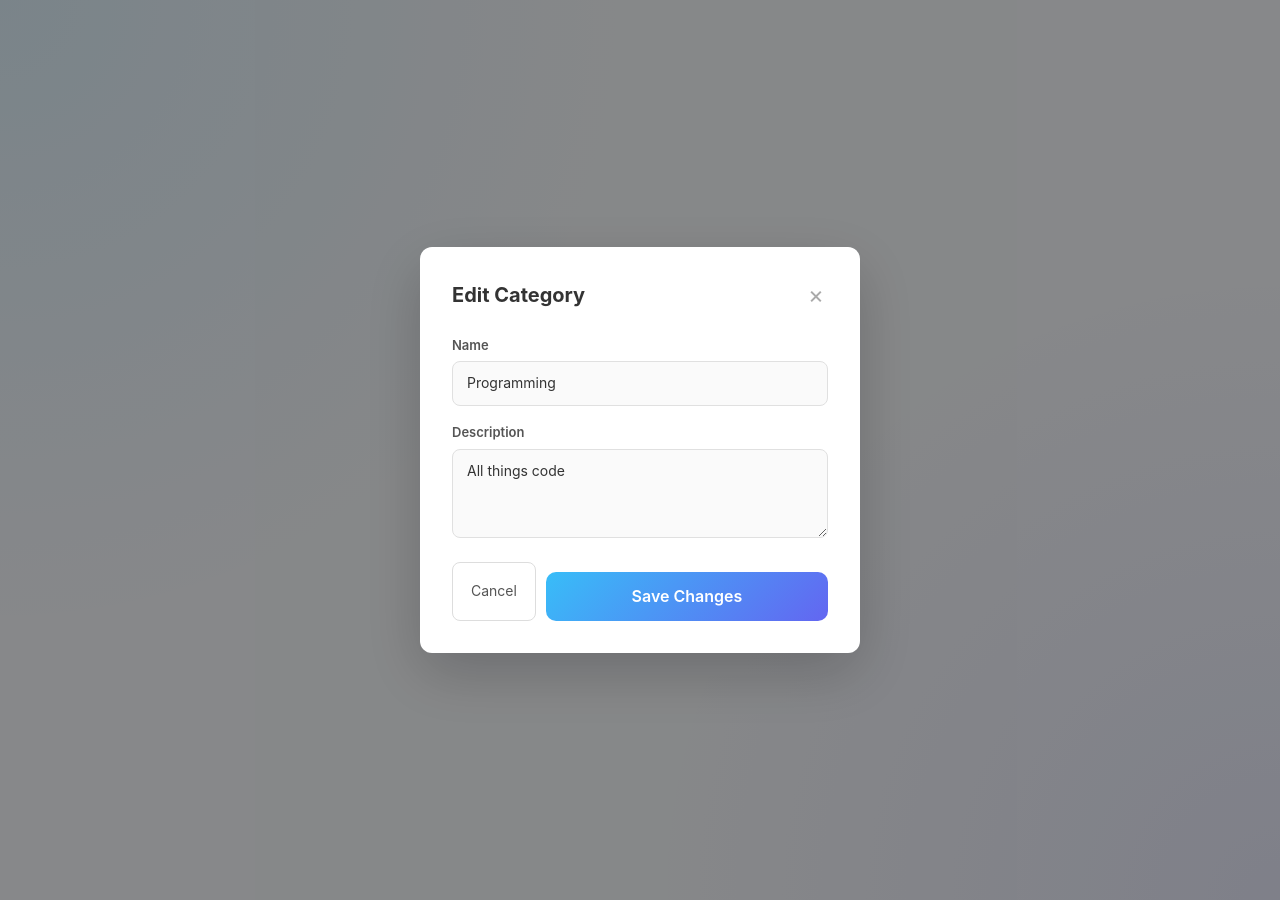
Test: EditCategoryModal › server error handling › shows the error message returned by the server
This screenshot has width=1280, height=900.
Click the button "Save Changes" at (687, 597), box x1=546 y1=572 x2=828 y2=621
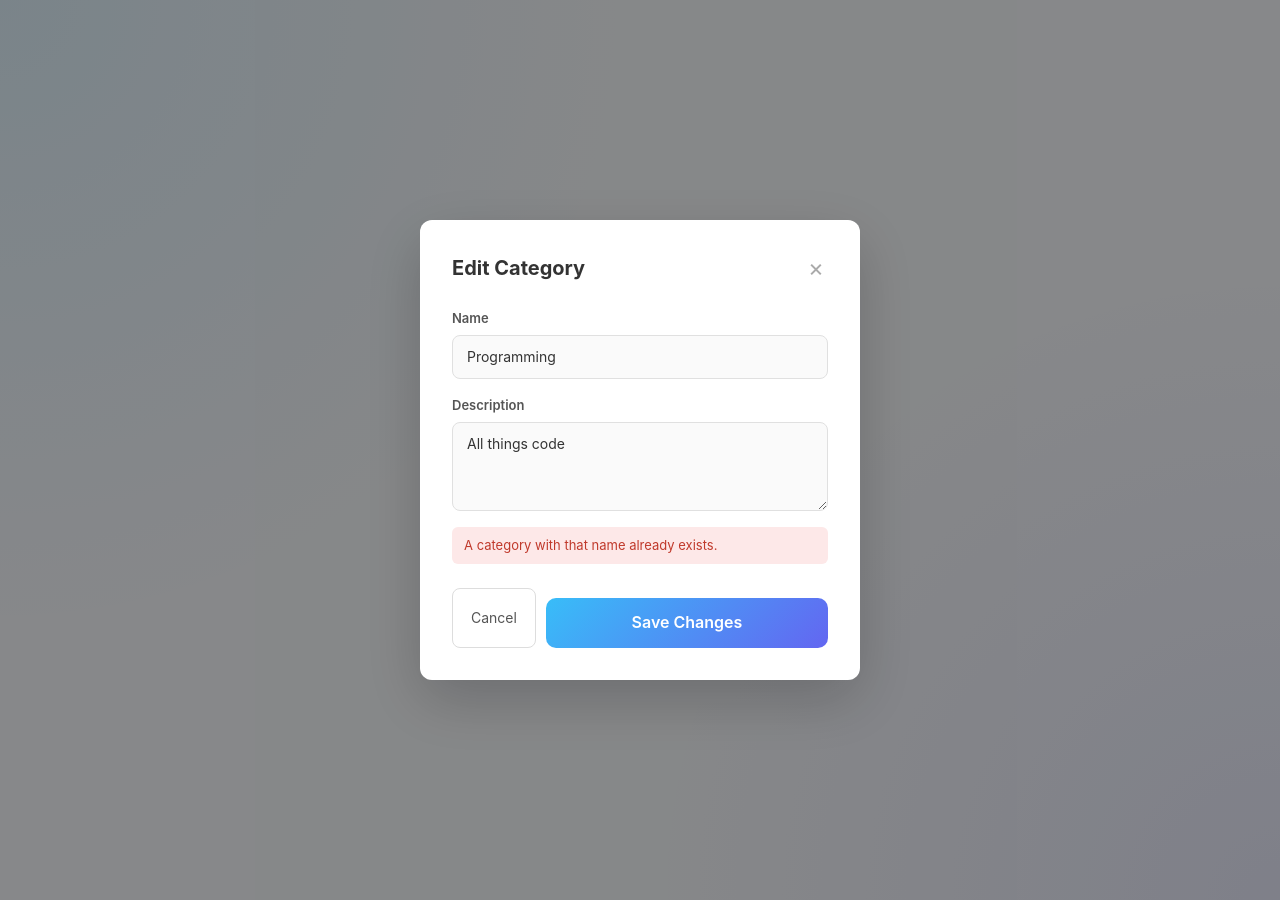
Now the text "A category with that name already exists." is shown, box x1=452 y1=527 x2=828 y2=564
